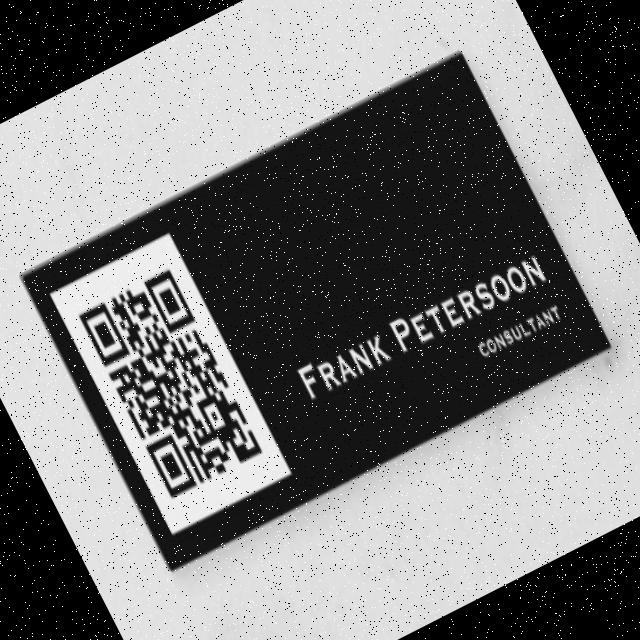QR-codes: (75, 262, 268, 501)
